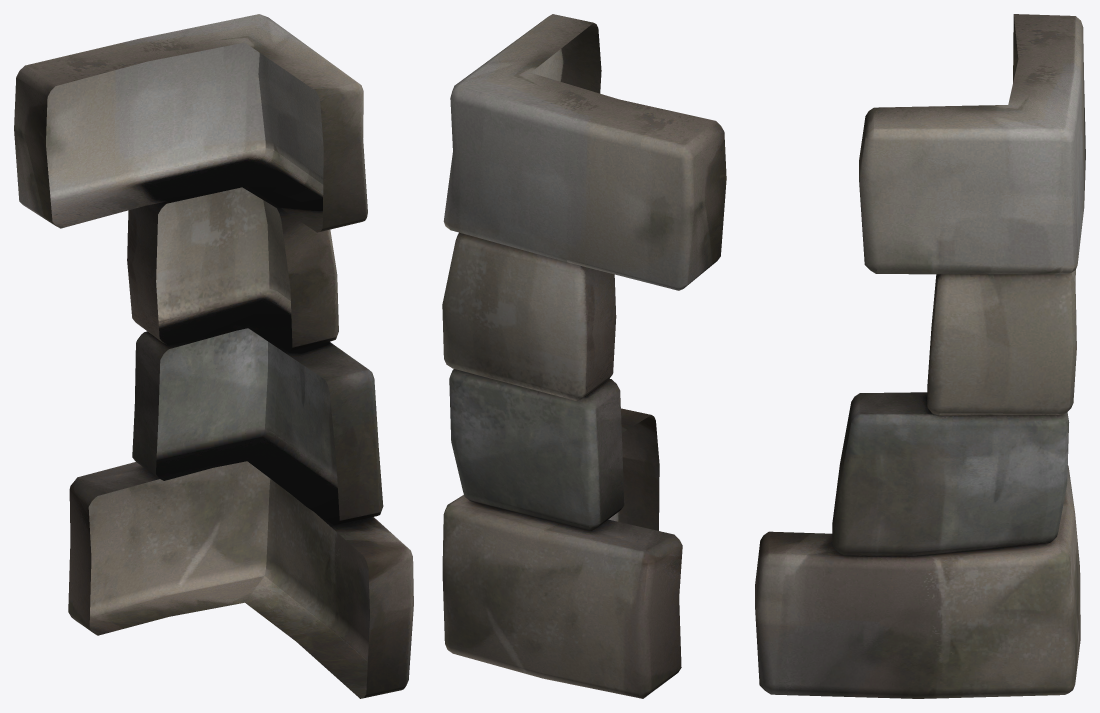
File: stone_trim_brick_32.glb
3 renders of one model, left to right at view 1: azimuth 30°, elevation 25°; view 2: azimuth 150°, elevation 25°; view 3: azimuth 270°, elevation 25°, orthographic.
Parts seen in each view (by area): view 1: stone_trim_brick_32; view 2: stone_trim_brick_32; view 3: stone_trim_brick_32.
Part boxes in pixels (box(x1,y1,x2,y2)): stone_trim_brick_32: box(14, 14, 413, 698); stone_trim_brick_32: box(442, 14, 726, 698); stone_trim_brick_32: box(755, 14, 1085, 698).
Bounding box in the file's own units: 0.2897 × 0.6149 × 0.323.
Materials: 1 (1 with a texture image).
